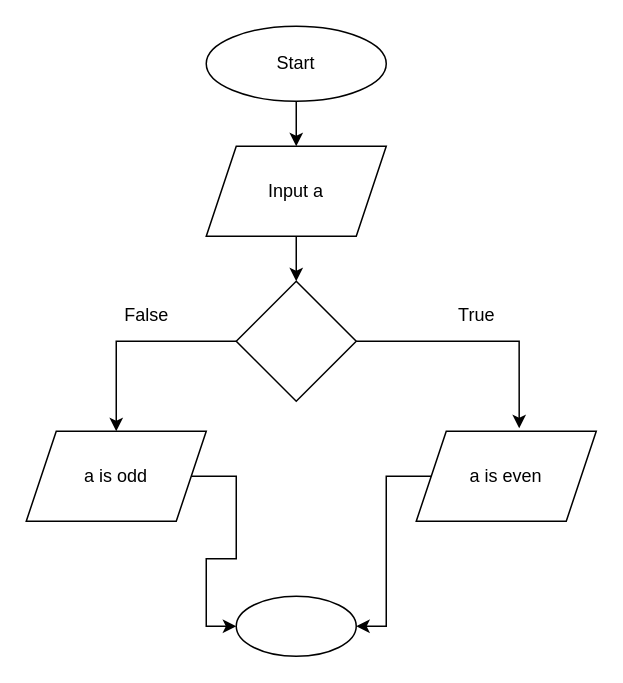
The diagram is 623 pixels wide and 683 high, and some of its shapes have lost their labels. The centre of each missing label's shape, as x and y in pixels:
"End" belongs at point 295,625.
"If a%2==0" belongs at point 295,340.
